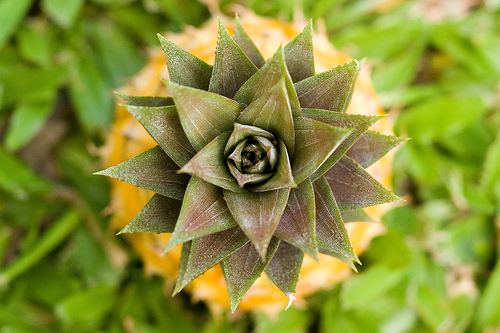pineapple: (89, 11, 412, 312)
